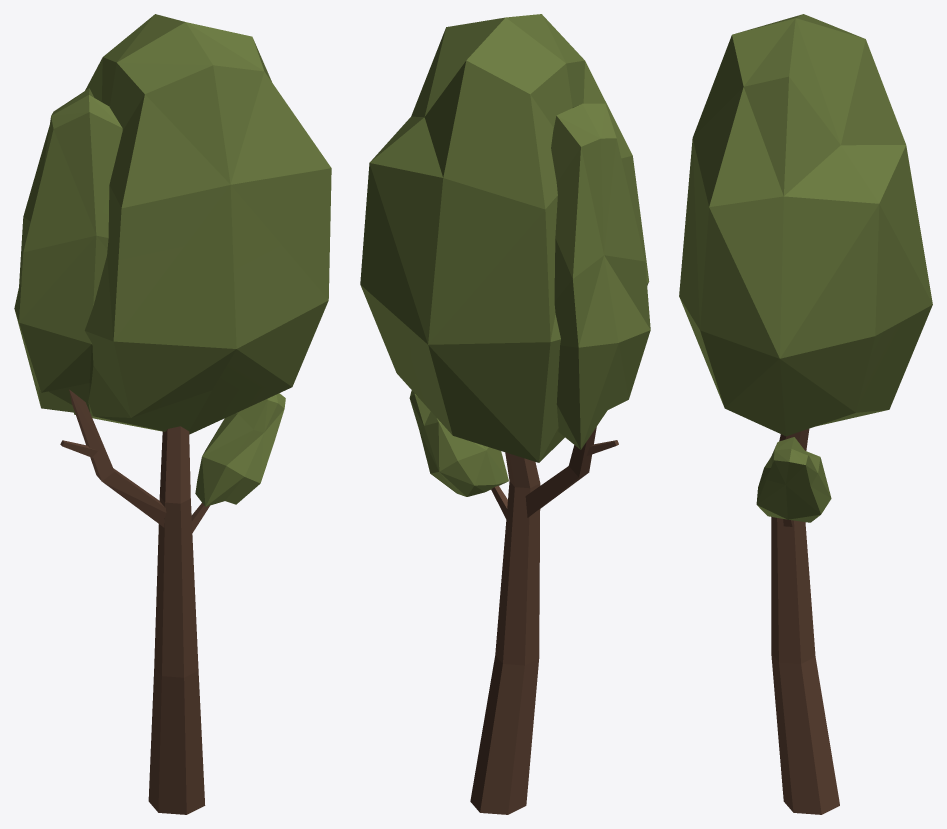
Rendered from tree2.glb.
3 views of the same model, side by side, from view 1: azimuth 30°, elevation 25°; view 2: azimuth 150°, elevation 25°; view 3: azimuth 270°, elevation 25° (orthographic).
Visible parts, largest first — view 1: tree12; view 2: tree12; view 3: tree12.
Boxes of the visible parts, x1,y1,x2,y2 form: tree12: [14, 14, 331, 814]; tree12: [360, 14, 650, 814]; tree12: [679, 14, 932, 814].
Bounding box in the file's own units: 2.49 × 6.48 × 1.9.
Materials: 1 (1 with a texture image).
